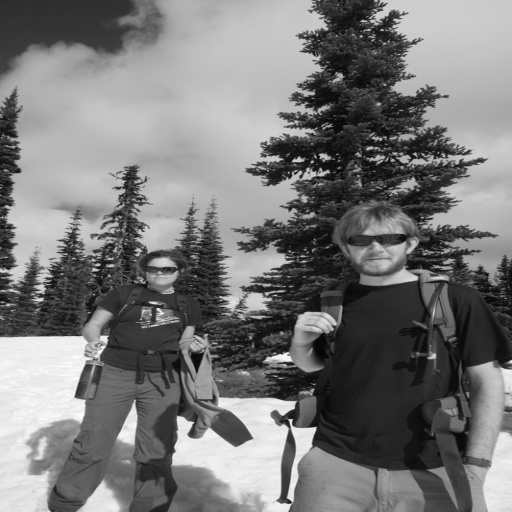hand: (294, 312, 340, 364), (83, 339, 109, 357), (187, 333, 210, 353), (466, 467, 487, 483)
